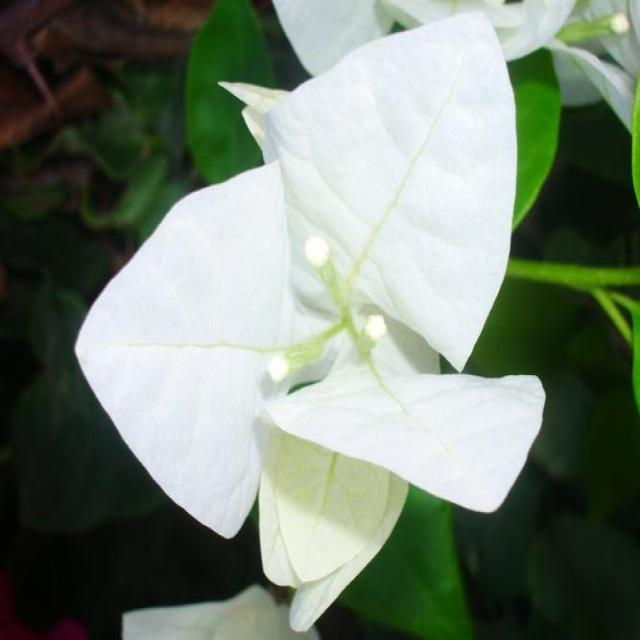bougainvillea: (36, 33, 640, 620)
